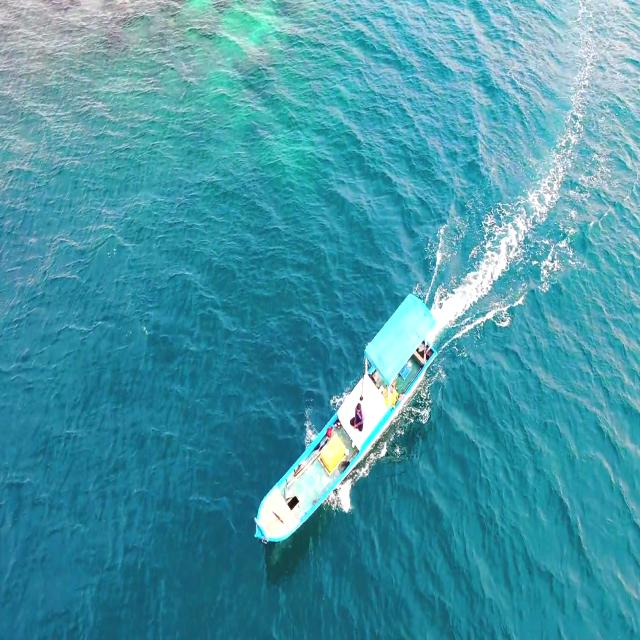ship: (253, 281, 438, 552)
